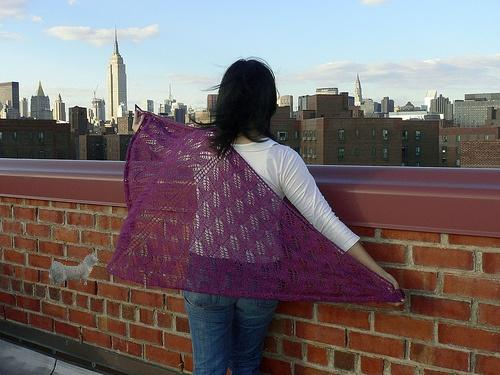tampered: (50, 254, 99, 285)
